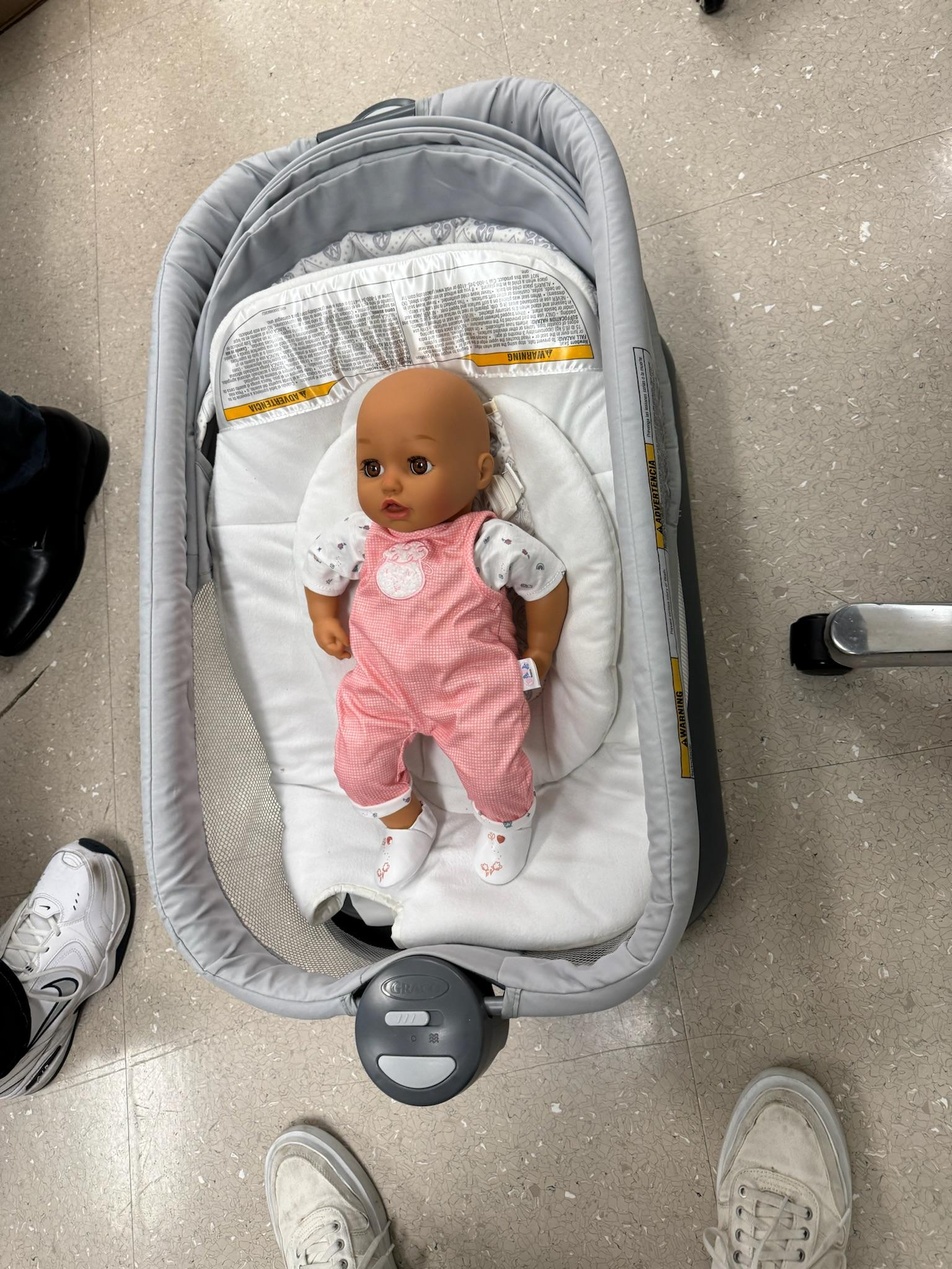baby: (295, 364, 575, 896)
